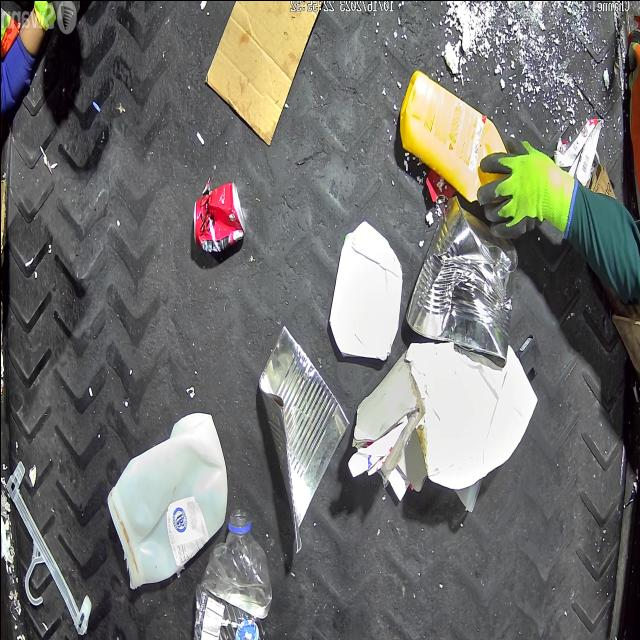can: (403, 194, 518, 369), (192, 179, 245, 251)
milk_jug: (106, 412, 227, 590)
non_white_jug: (398, 66, 504, 202)
plastic_bottle: (192, 508, 270, 640)
